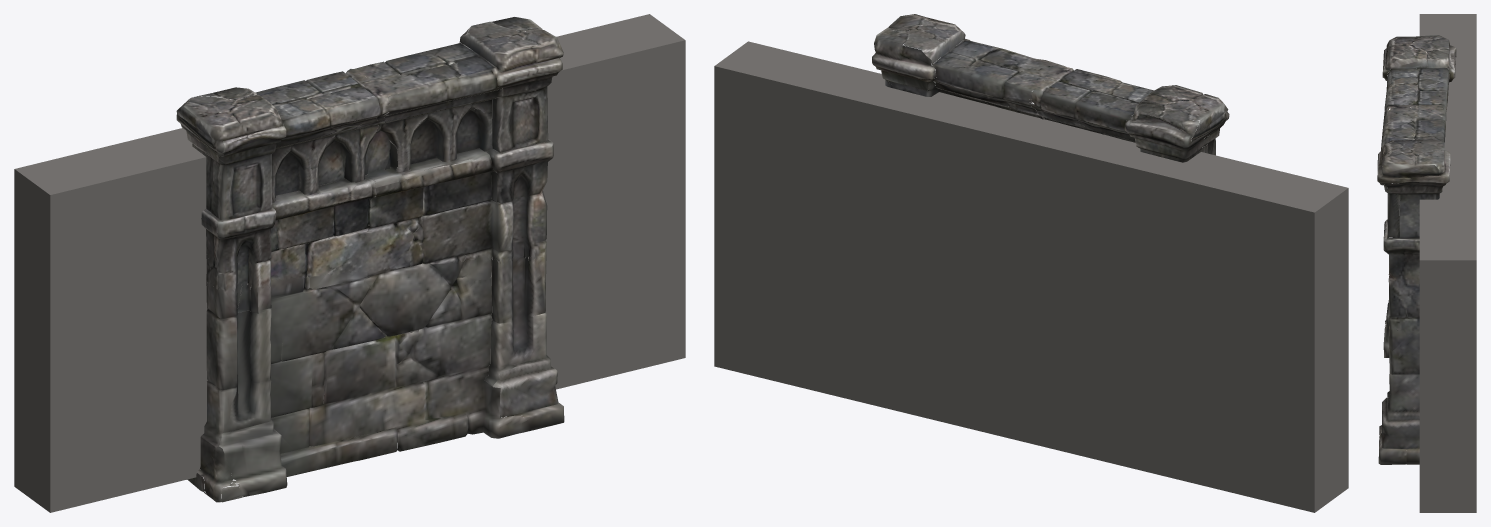
File: Valoria_WallSegment_SkinV1.glb
3 views of the same model, side by side, from view 1: azimuth 30°, elevation 25°; view 2: azimuth 150°, elevation 25°; view 3: azimuth 270°, elevation 25° (orthographic). The views are drawn at different scales.
Visible parts, largest first — view 1: Wall skin · Eldoria_MultiPiece_Group_05, Wall support; view 2: Wall support, Wall skin · Eldoria_MultiPiece_Group_05; view 3: Wall support, Wall skin · Eldoria_MultiPiece_Group_05.
Part boxes in pixels (<box>): Wall skin · Eldoria_MultiPiece_Group_05: <box>176,17,564,502</box>; Wall support: <box>14,14,685,512</box>; Wall support: <box>714,41,1348,512</box>; Wall skin · Eldoria_MultiPiece_Group_05: <box>872,14,1229,162</box>; Wall support: <box>1419,14,1476,512</box>; Wall skin · Eldoria_MultiPiece_Group_05: <box>1377,35,1456,464</box>.
Bounding box in the file's own units: 4.1 × 2.35 × 0.698.
2 materials, 1 textured.
